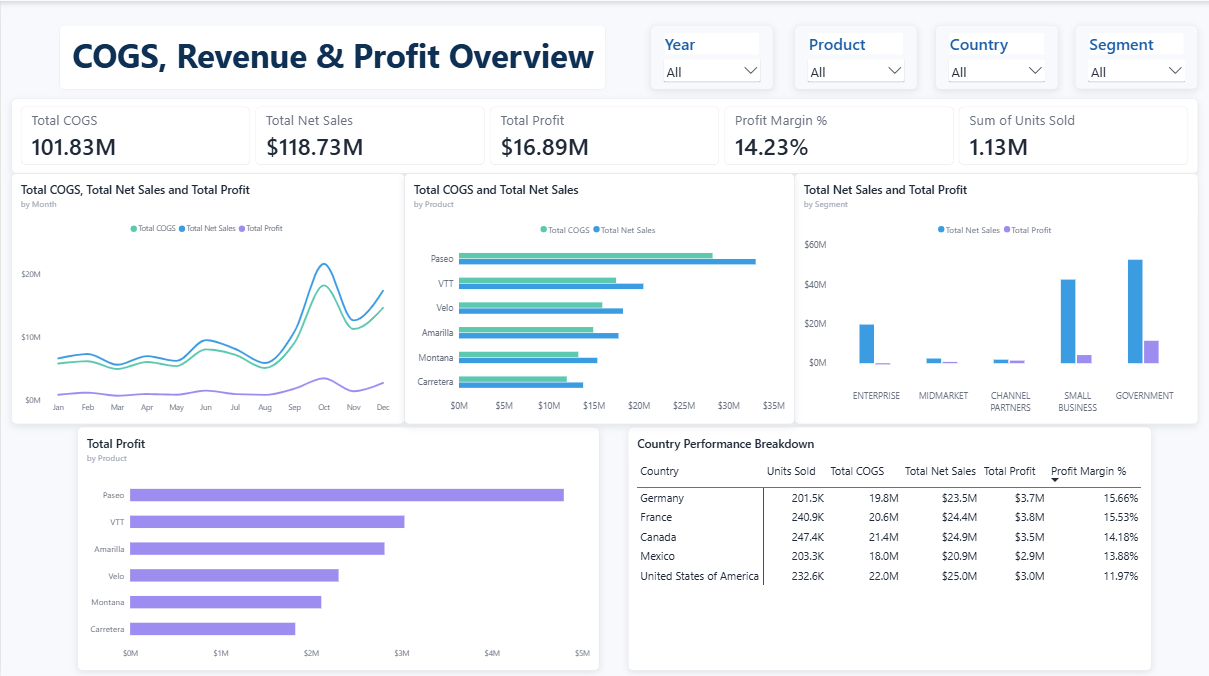

The page's visual inventory and layout, read from the dashboard file:
{"tool":"powerbi","page":{"name":"Overview","canvas":[1920,1080],"ordinal":0},"visuals":[{"type":"cardVisual","fields":{"Data":["financials.Total COGS","financials.Total Net Sales","financials.Total Profit","financials.Profit Margin %","Sum(financials.Units Sold)"]},"box":[16.7,155.1,1887.3,119.3],"z":0},{"type":"lineChart","fields":{"Category":["Date.Month"],"Y":["financials.Total COGS","financials.Total Net Sales","financials.Total Profit"]},"box":[16.7,274.4,625.1,398.4],"z":1000},{"type":"slicer","fields":{"Values":["financials.Segment"]},"box":[1708.3,38.2,195.6,102],"z":2000},{"type":"clusteredColumnChart","fields":{"Category":["financials.Segment"],"Y":["financials.Total Net Sales","financials.Total Profit"]},"box":[1262.1,274.4,641.8,398.4],"z":3000},{"type":"barChart","fields":{"Category":["financials.Product"],"Y":["financials.Total Profit"]},"box":[121.7,677.6,830,387],"z":4000},{"type":"slicer","fields":{"Values":["Date.Year"]},"box":[1033.1,38.2,195.6,102.6],"z":5000},{"type":"pivotTable","title":"Country Performance Breakdown","fields":{"Rows":["financials.Country"],"Values":["Sum(financials.Units Sold)","financials.Total COGS","financials.Total Net Sales","financials.Total Profit","financials.Profit Margin %"]},"box":[997.3,677.6,832.5,387.5],"z":6000},{"type":"slicer","fields":{"Values":["financials.Country"]},"box":[1486.4,38.2,195,102.6],"z":7000},{"type":"clusteredBarChart","fields":{"Category":["financials.Product"],"Y":["financials.Total COGS","financials.Total Net Sales"]},"box":[641.8,274.4,620.3,398.4],"z":8000},{"type":"slicer","fields":{"Values":["financials.Product"]},"box":[1262.1,38.2,195.6,102.6],"z":9000},{"type":"textbox","title":"COGS, Revenue & Profit Overview","box":[93.1,38.2,868.5,102.6],"z":10000}]}

Visuals, with their boxes in screenshot pixels (x1, y1, x2, y2), scaled from the page's 1920x1080 canvas onto the 1209x676 screenshot:
cardVisual - financials.Total COGS x financials.Total Net Sales: crop(11, 97, 1199, 172)
lineChart - Date.Month x financials.Total COGS: crop(11, 172, 404, 421)
slicer - financials.Segment: crop(1076, 24, 1199, 88)
clusteredColumnChart - financials.Segment x financials.Total Net Sales: crop(795, 172, 1199, 421)
barChart - financials.Product x financials.Total Profit: crop(77, 424, 599, 666)
slicer - Date.Year: crop(651, 24, 774, 88)
"Country Performance Breakdown" pivotTable: crop(628, 424, 1152, 667)
slicer - financials.Country: crop(936, 24, 1059, 88)
clusteredBarChart - financials.Product x financials.Total COGS: crop(404, 172, 795, 421)
slicer - financials.Product: crop(795, 24, 918, 88)
"COGS, Revenue & Profit Overview" textbox: crop(59, 24, 606, 88)
